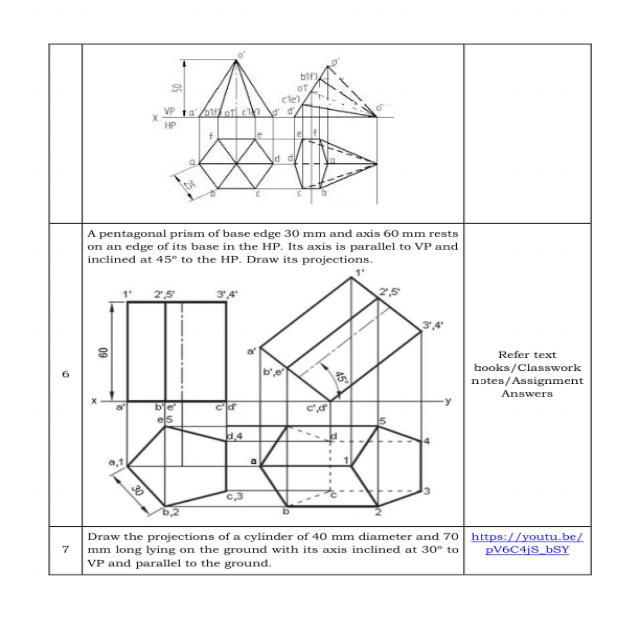Drawings: (89, 267, 453, 520), (145, 48, 399, 211)
